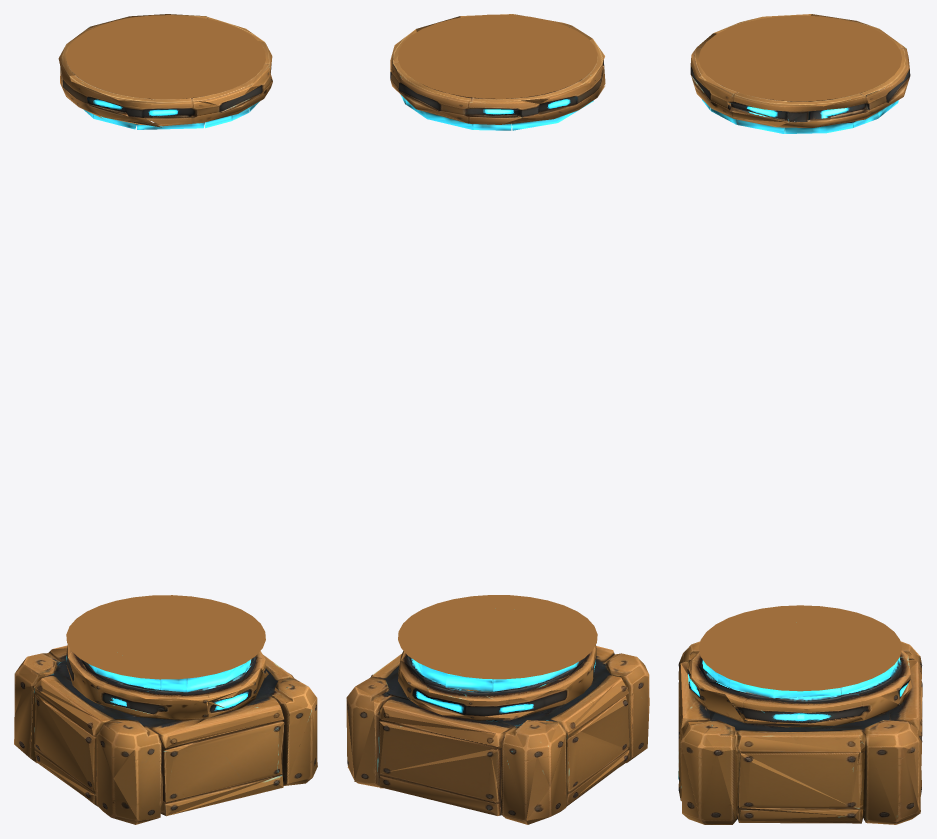
The model's file is kolba-tumba.glb.
The picture shows the model from 3 angles, left to right: view 1: azimuth 30°, elevation 25°; view 2: azimuth 150°, elevation 25°; view 3: azimuth 270°, elevation 25°; orthographic projection.
Visible parts, largest first — view 1: kolba-tumba; view 2: kolba-tumba; view 3: kolba-tumba.
Boxes of the visible parts, bbox=[...] form: kolba-tumba: bbox=[14, 14, 317, 824]; kolba-tumba: bbox=[346, 14, 649, 824]; kolba-tumba: bbox=[678, 14, 922, 824].
Size of the model in its own units: 0.6 by 1.95 by 0.6.
Materials: 1 (1 with a texture image).
